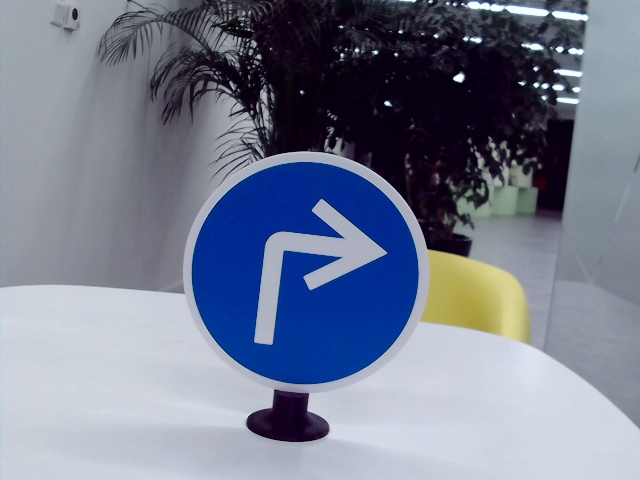turn_right: (244, 185, 379, 340)
